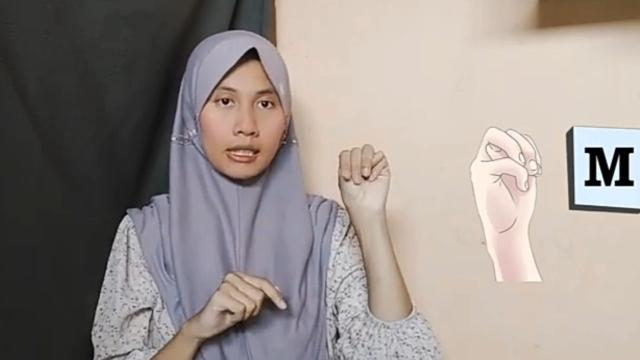M: (336, 142, 390, 216)
